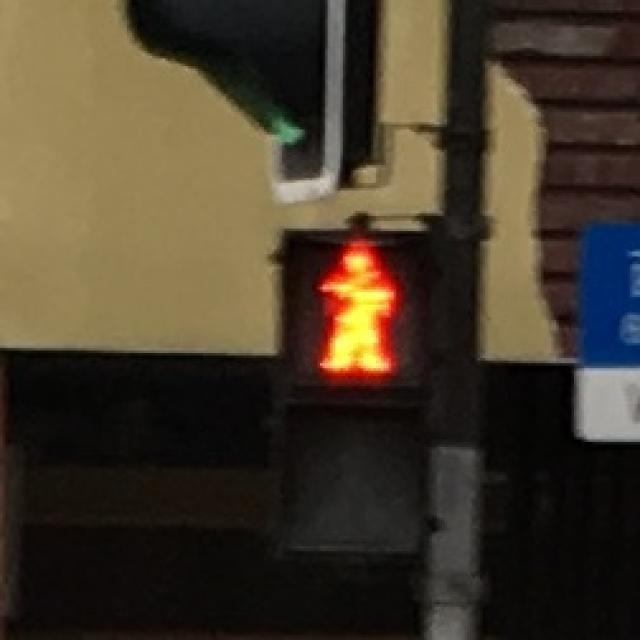red-crossing: (297, 231, 417, 384)
